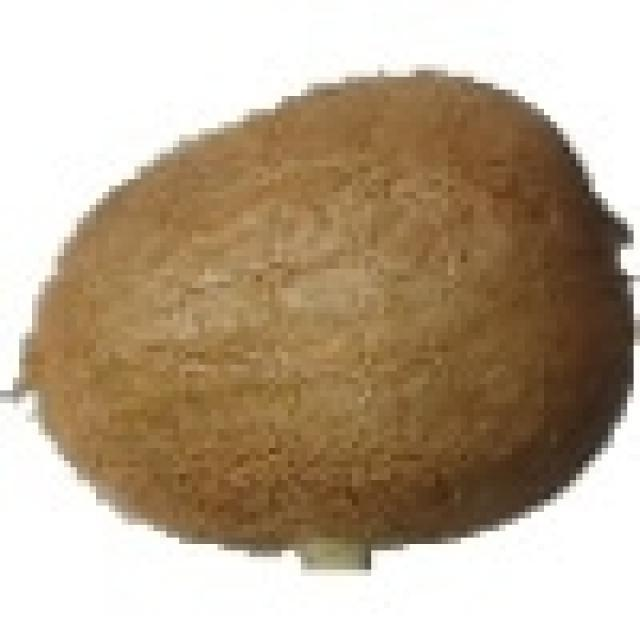kiwi: (29, 71, 631, 545)
